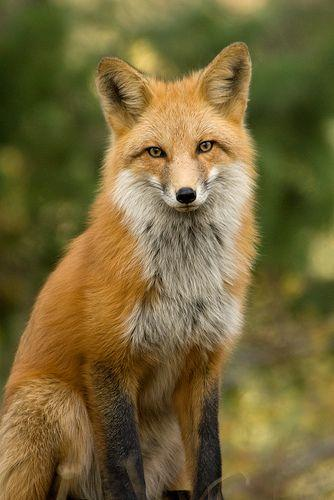fox: (1, 43, 264, 500)
